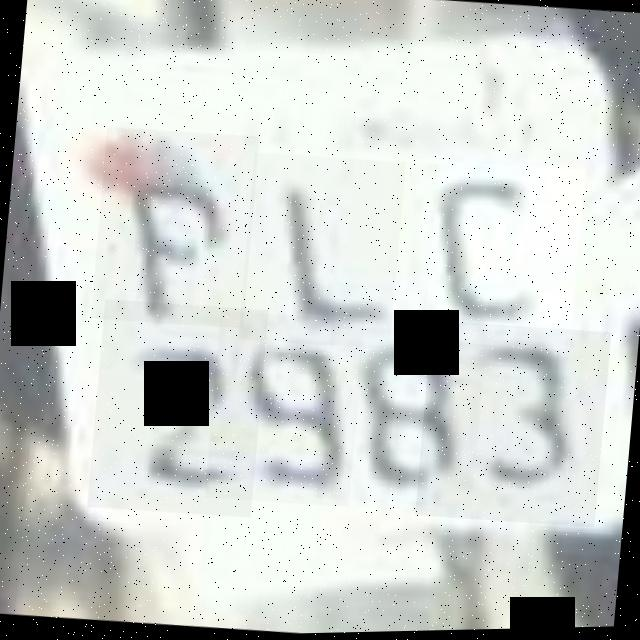2: (86, 297, 268, 521)
3: (415, 319, 611, 533)
8: (316, 308, 488, 512)
9: (203, 309, 364, 510)
J: (238, 150, 438, 356)
O: (390, 157, 586, 355)
P: (90, 124, 259, 332)
